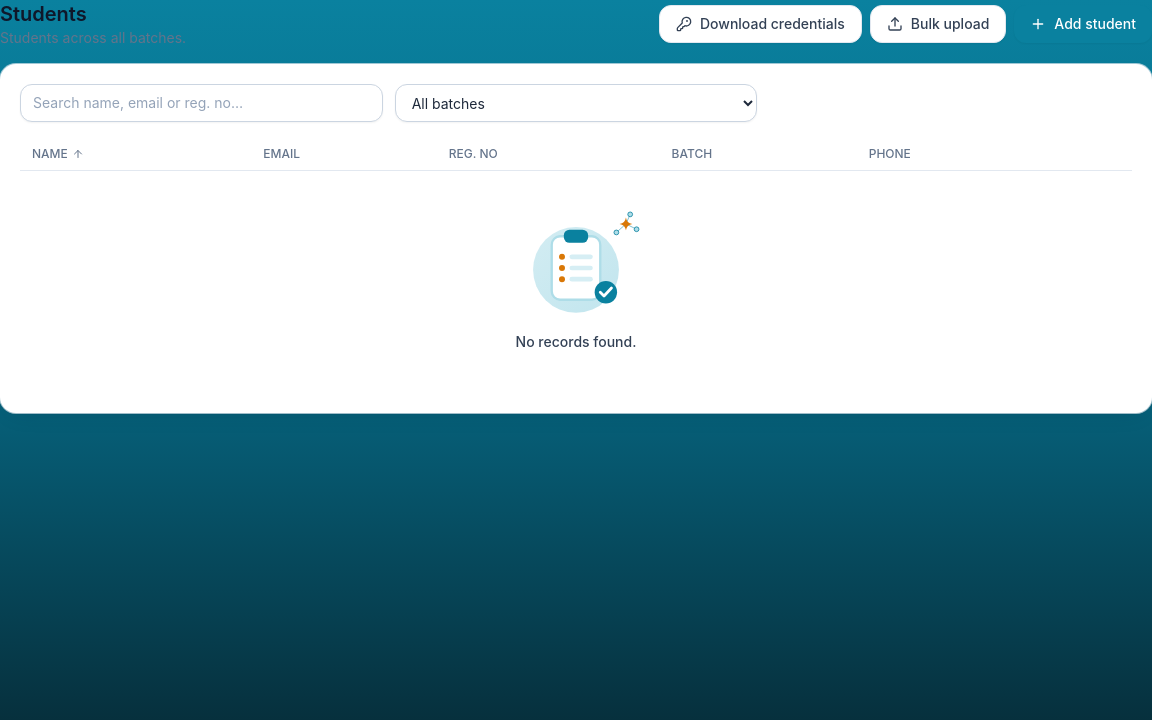
students page – download credentials › does not offer a file when everybody was skipped
The width and height of the screenshot is (1152, 720).
Click the button "Download credentials" at (760, 24), box [659,5,862,43]
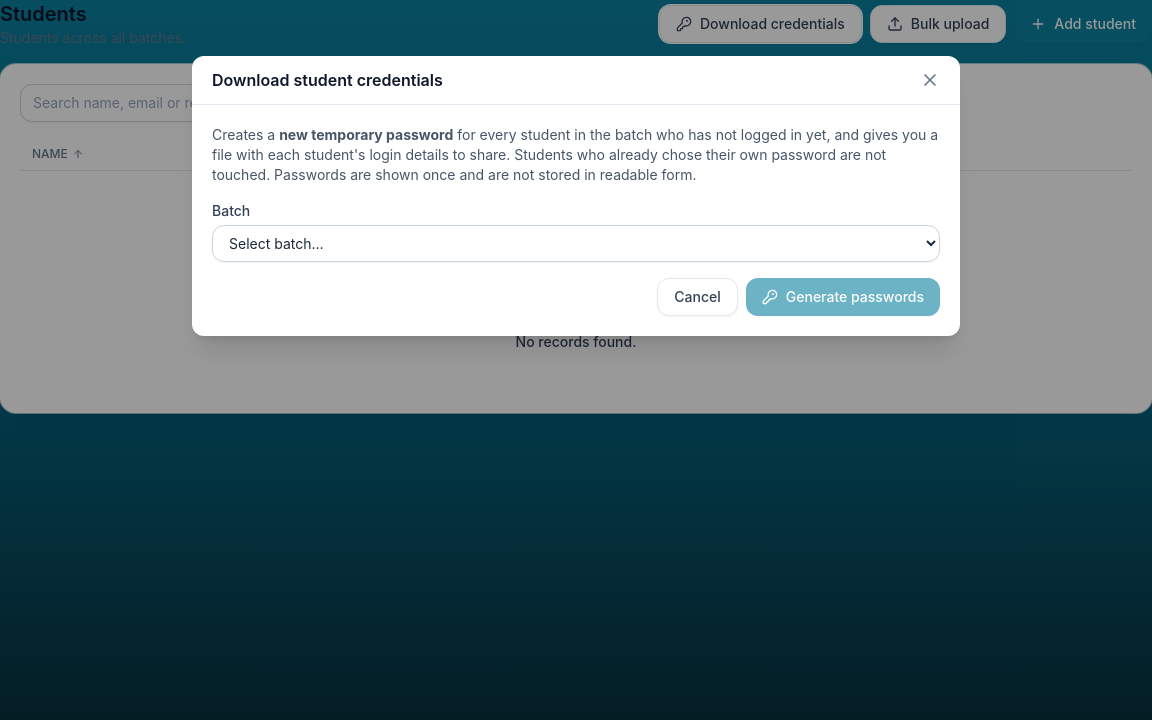
Select "C1 – Credential batch" in the dropdown labelled "Batch" at (576, 244), box [212,225,940,262]
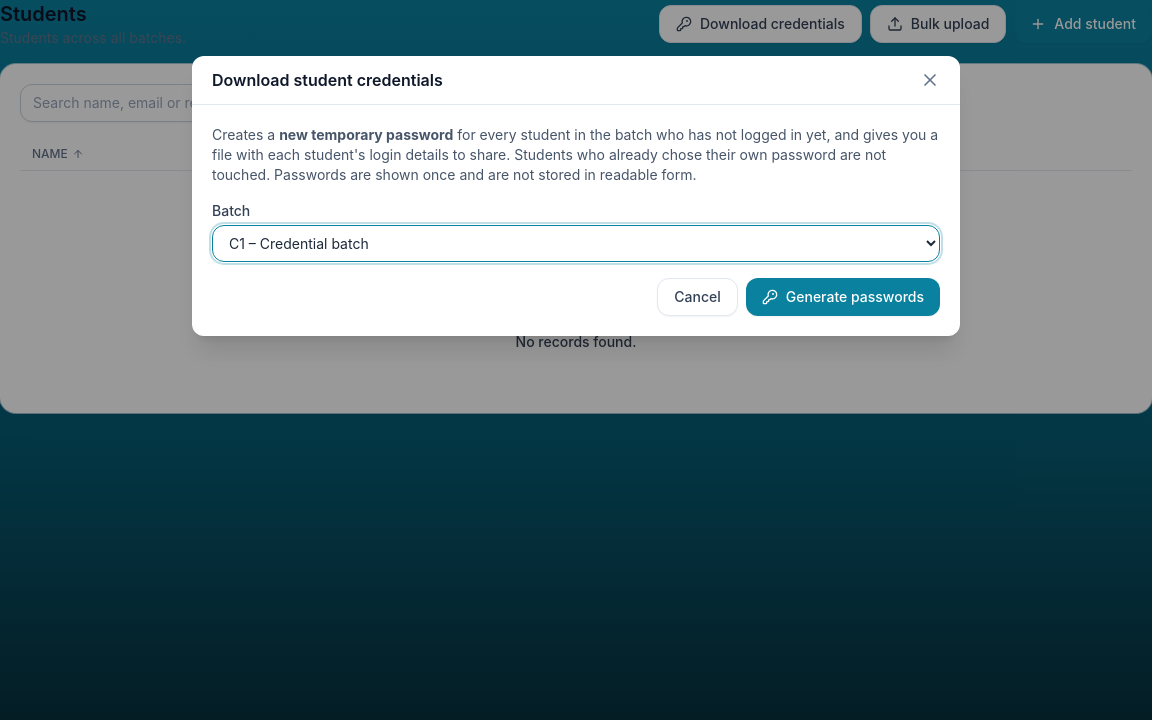
Click the button "Generate passwords" at (843, 297), box [746,278,940,316]
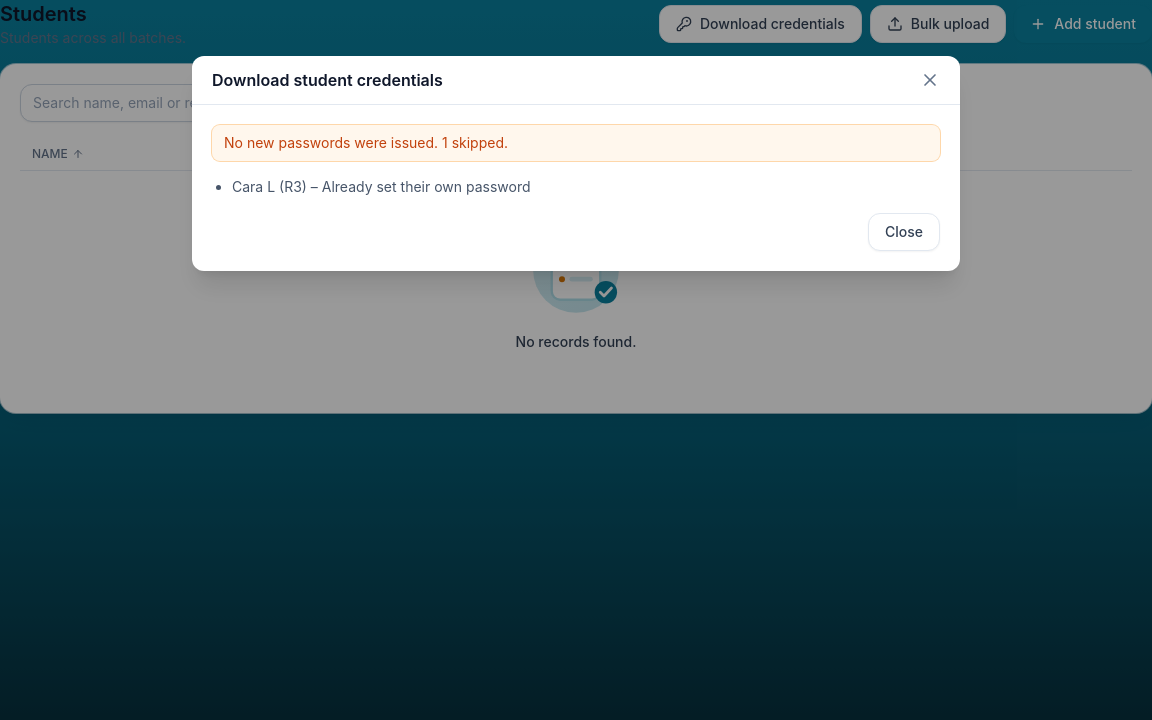
Expected: the text "No new passwords were issued. 1 skipped." is shown, [212,125,940,161]
